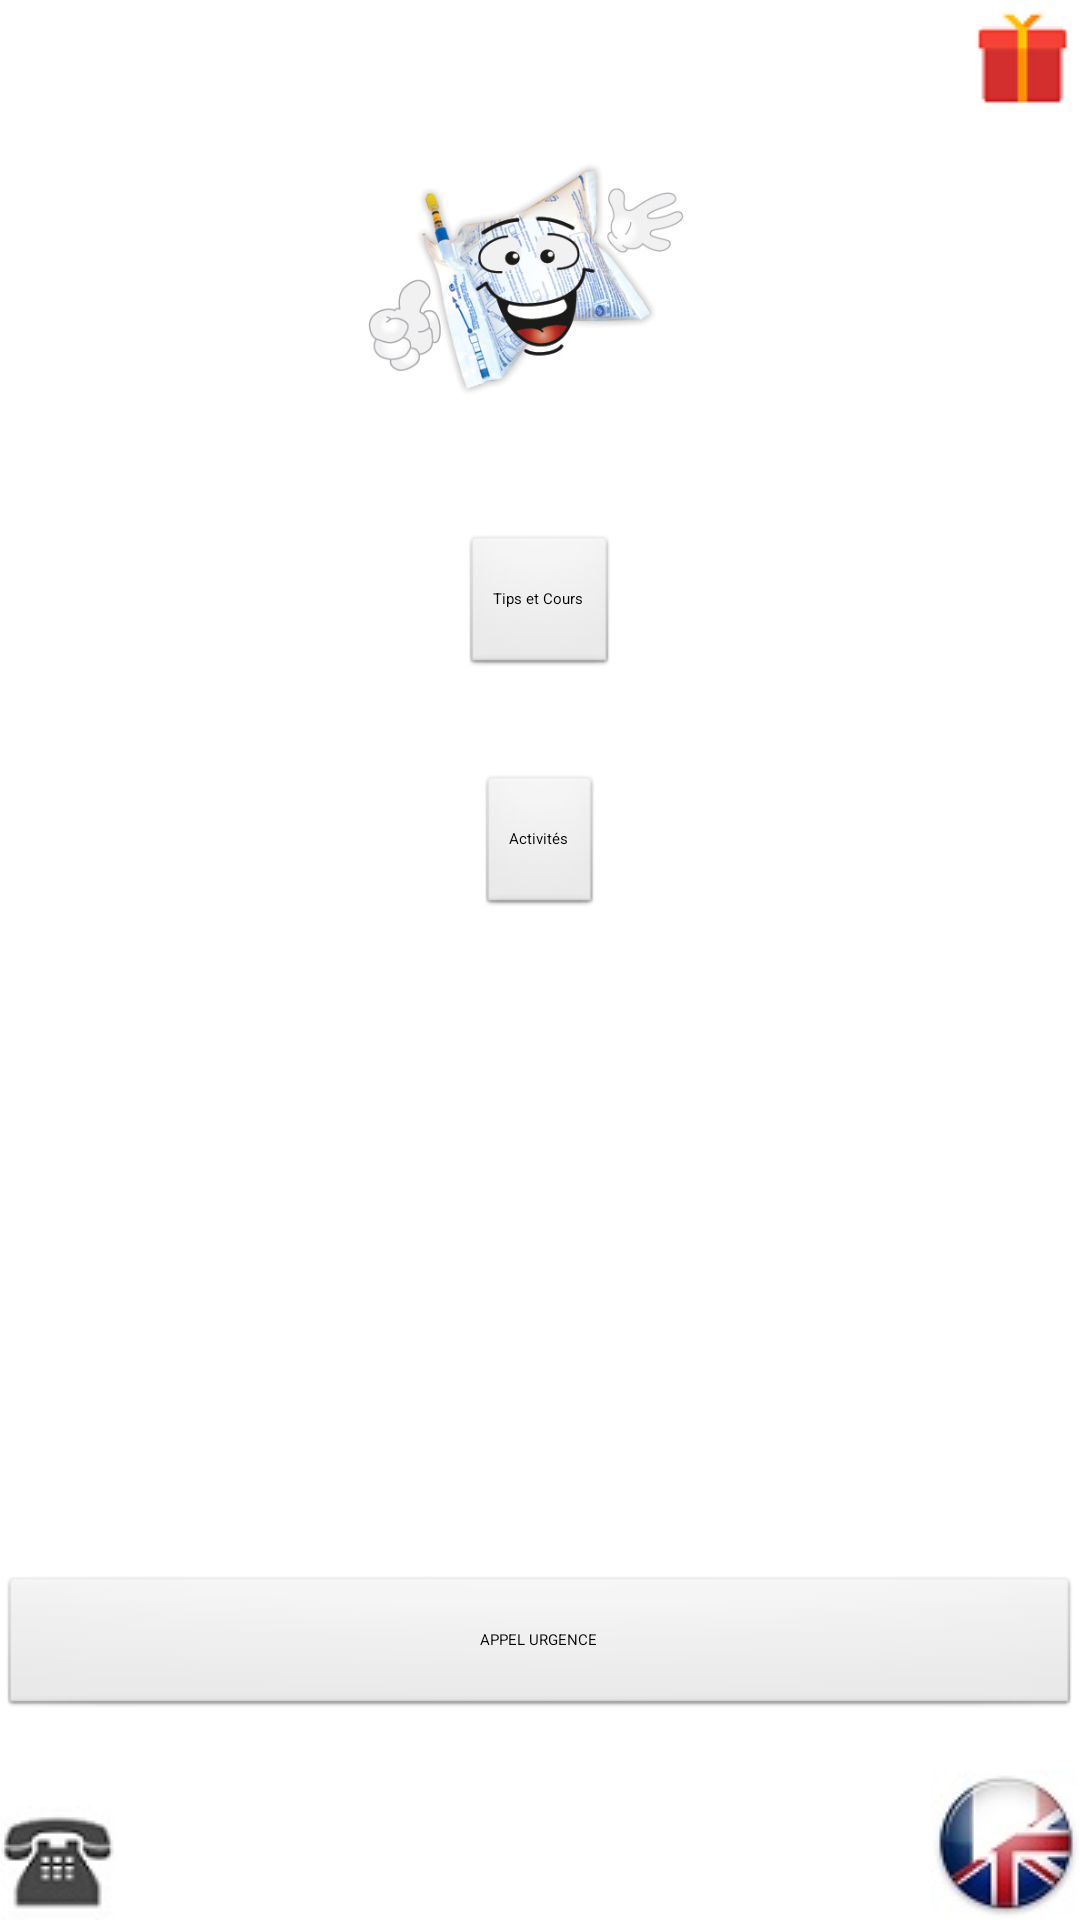

Icon bounding boxes for this 1080x1920 phone screenshot, format (x1, y1, x2, y2):
call: (4, 1817, 113, 1908)
kdo: (978, 13, 1067, 103)
